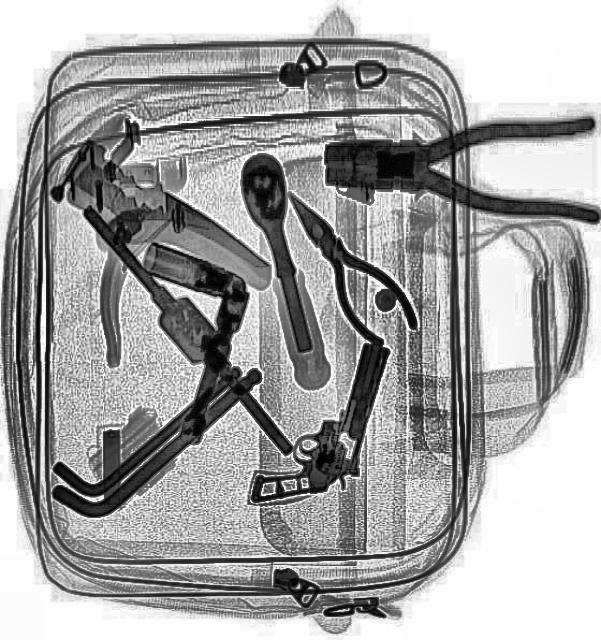Gun: (247, 320, 390, 522)
Pliers: (322, 114, 600, 223), (264, 174, 424, 358)
